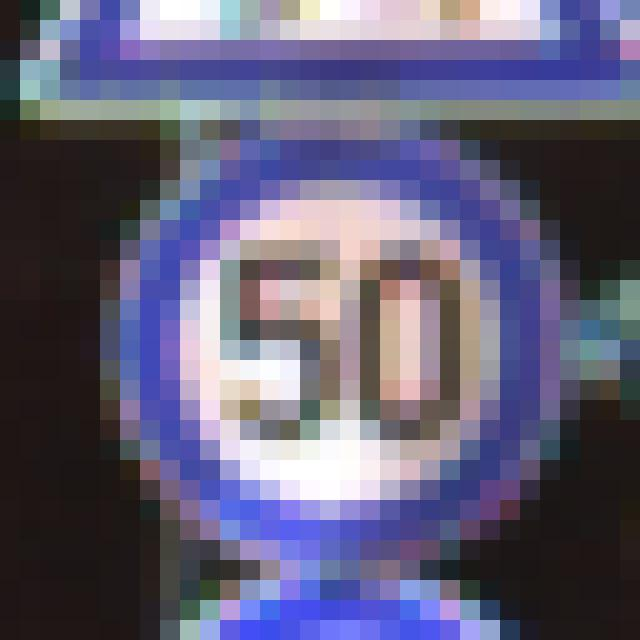SPEED LIMIT 50: (146, 170, 530, 528)
